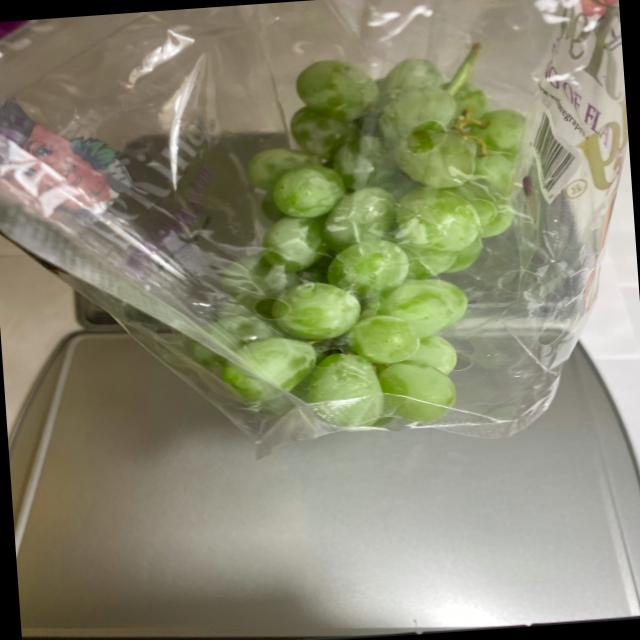grapes: (171, 32, 558, 422)
